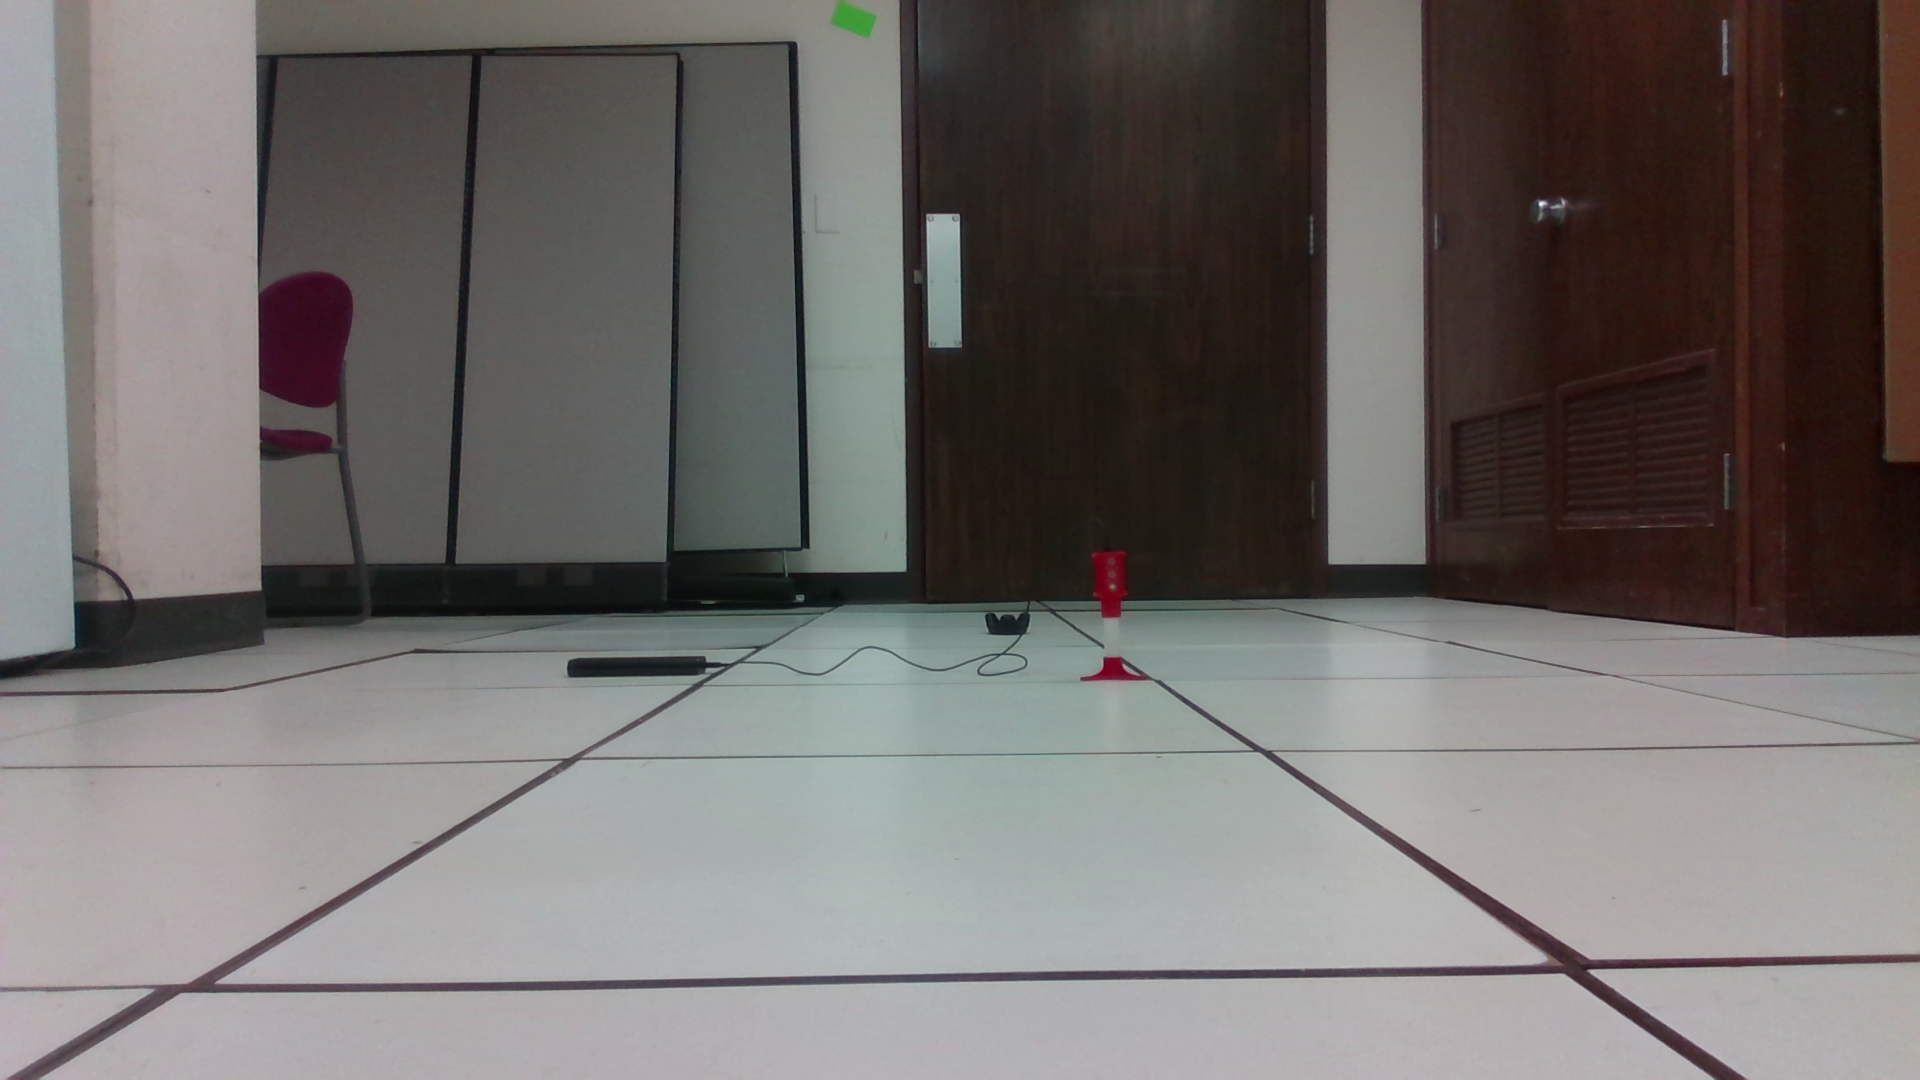stoplight: (1091, 549, 1127, 617)
